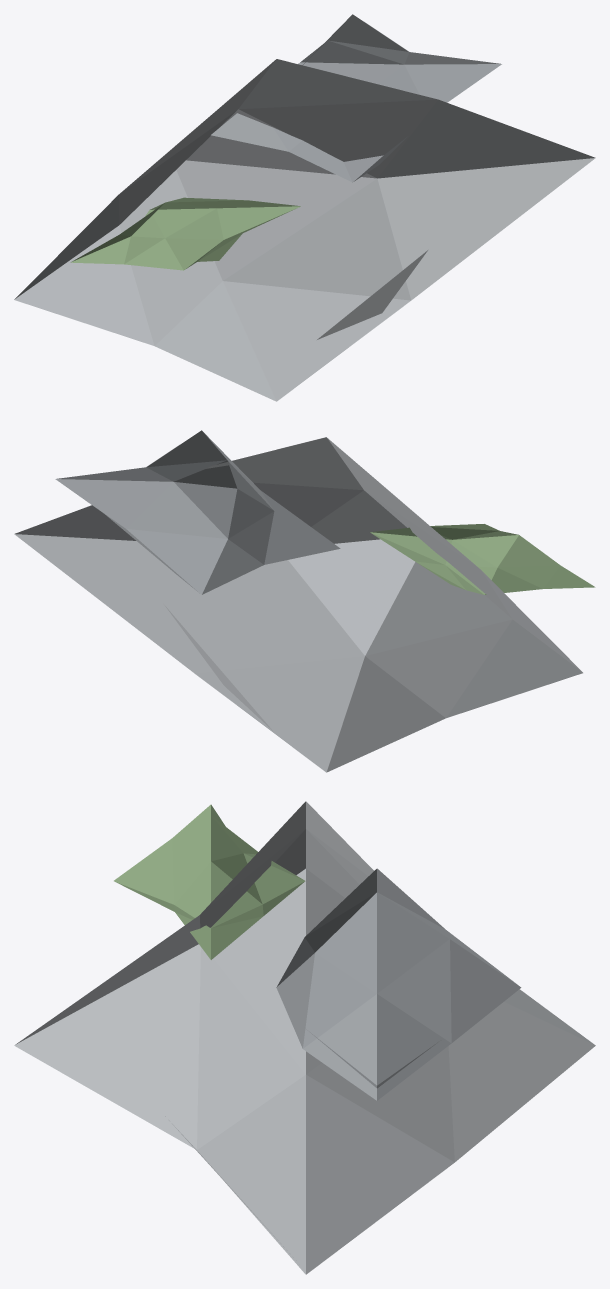
Rendered from boulder_v18.glb.
3 views of the same model, one above another, from view 1: azimuth 30°, elevation 25°; view 2: azimuth 150°, elevation 25°; view 3: azimuth 270°, elevation 25° (orthographic). The views are drawn at different scales.
Visible parts, largest first — view 1: lod0; view 2: lod0; view 3: lod0.
Part boxes in pixels (left/top/right/bottom): lod0: left=14, top=14, right=595, bottom=401; lod0: left=14, top=430, right=595, bottom=772; lod0: left=14, top=801, right=595, bottom=1274.
Size of what is drawn, in the model's own units: 3.52 by 1.99 by 2.21.
